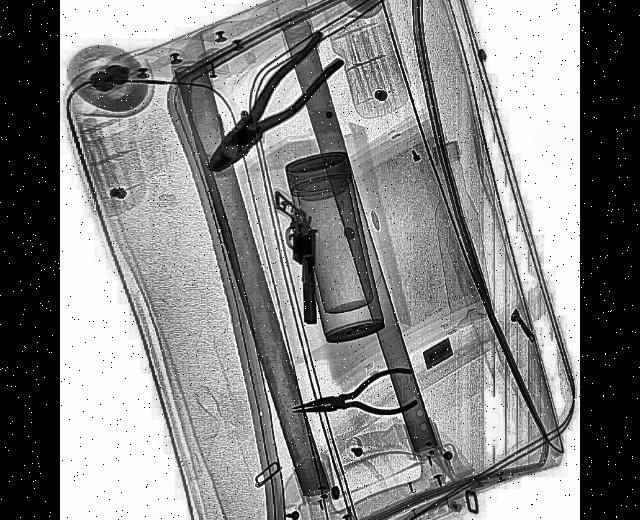Gun: (270, 191, 318, 324)
Pliers: (196, 23, 344, 191), (290, 366, 418, 432)
